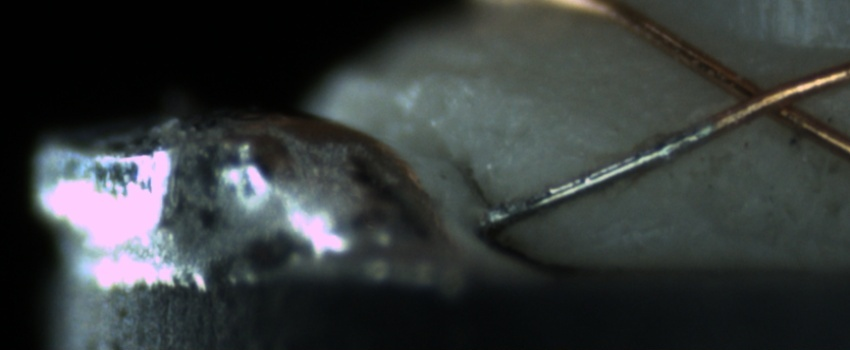CL: (712, 63, 822, 131)
TS: (489, 120, 712, 229)
